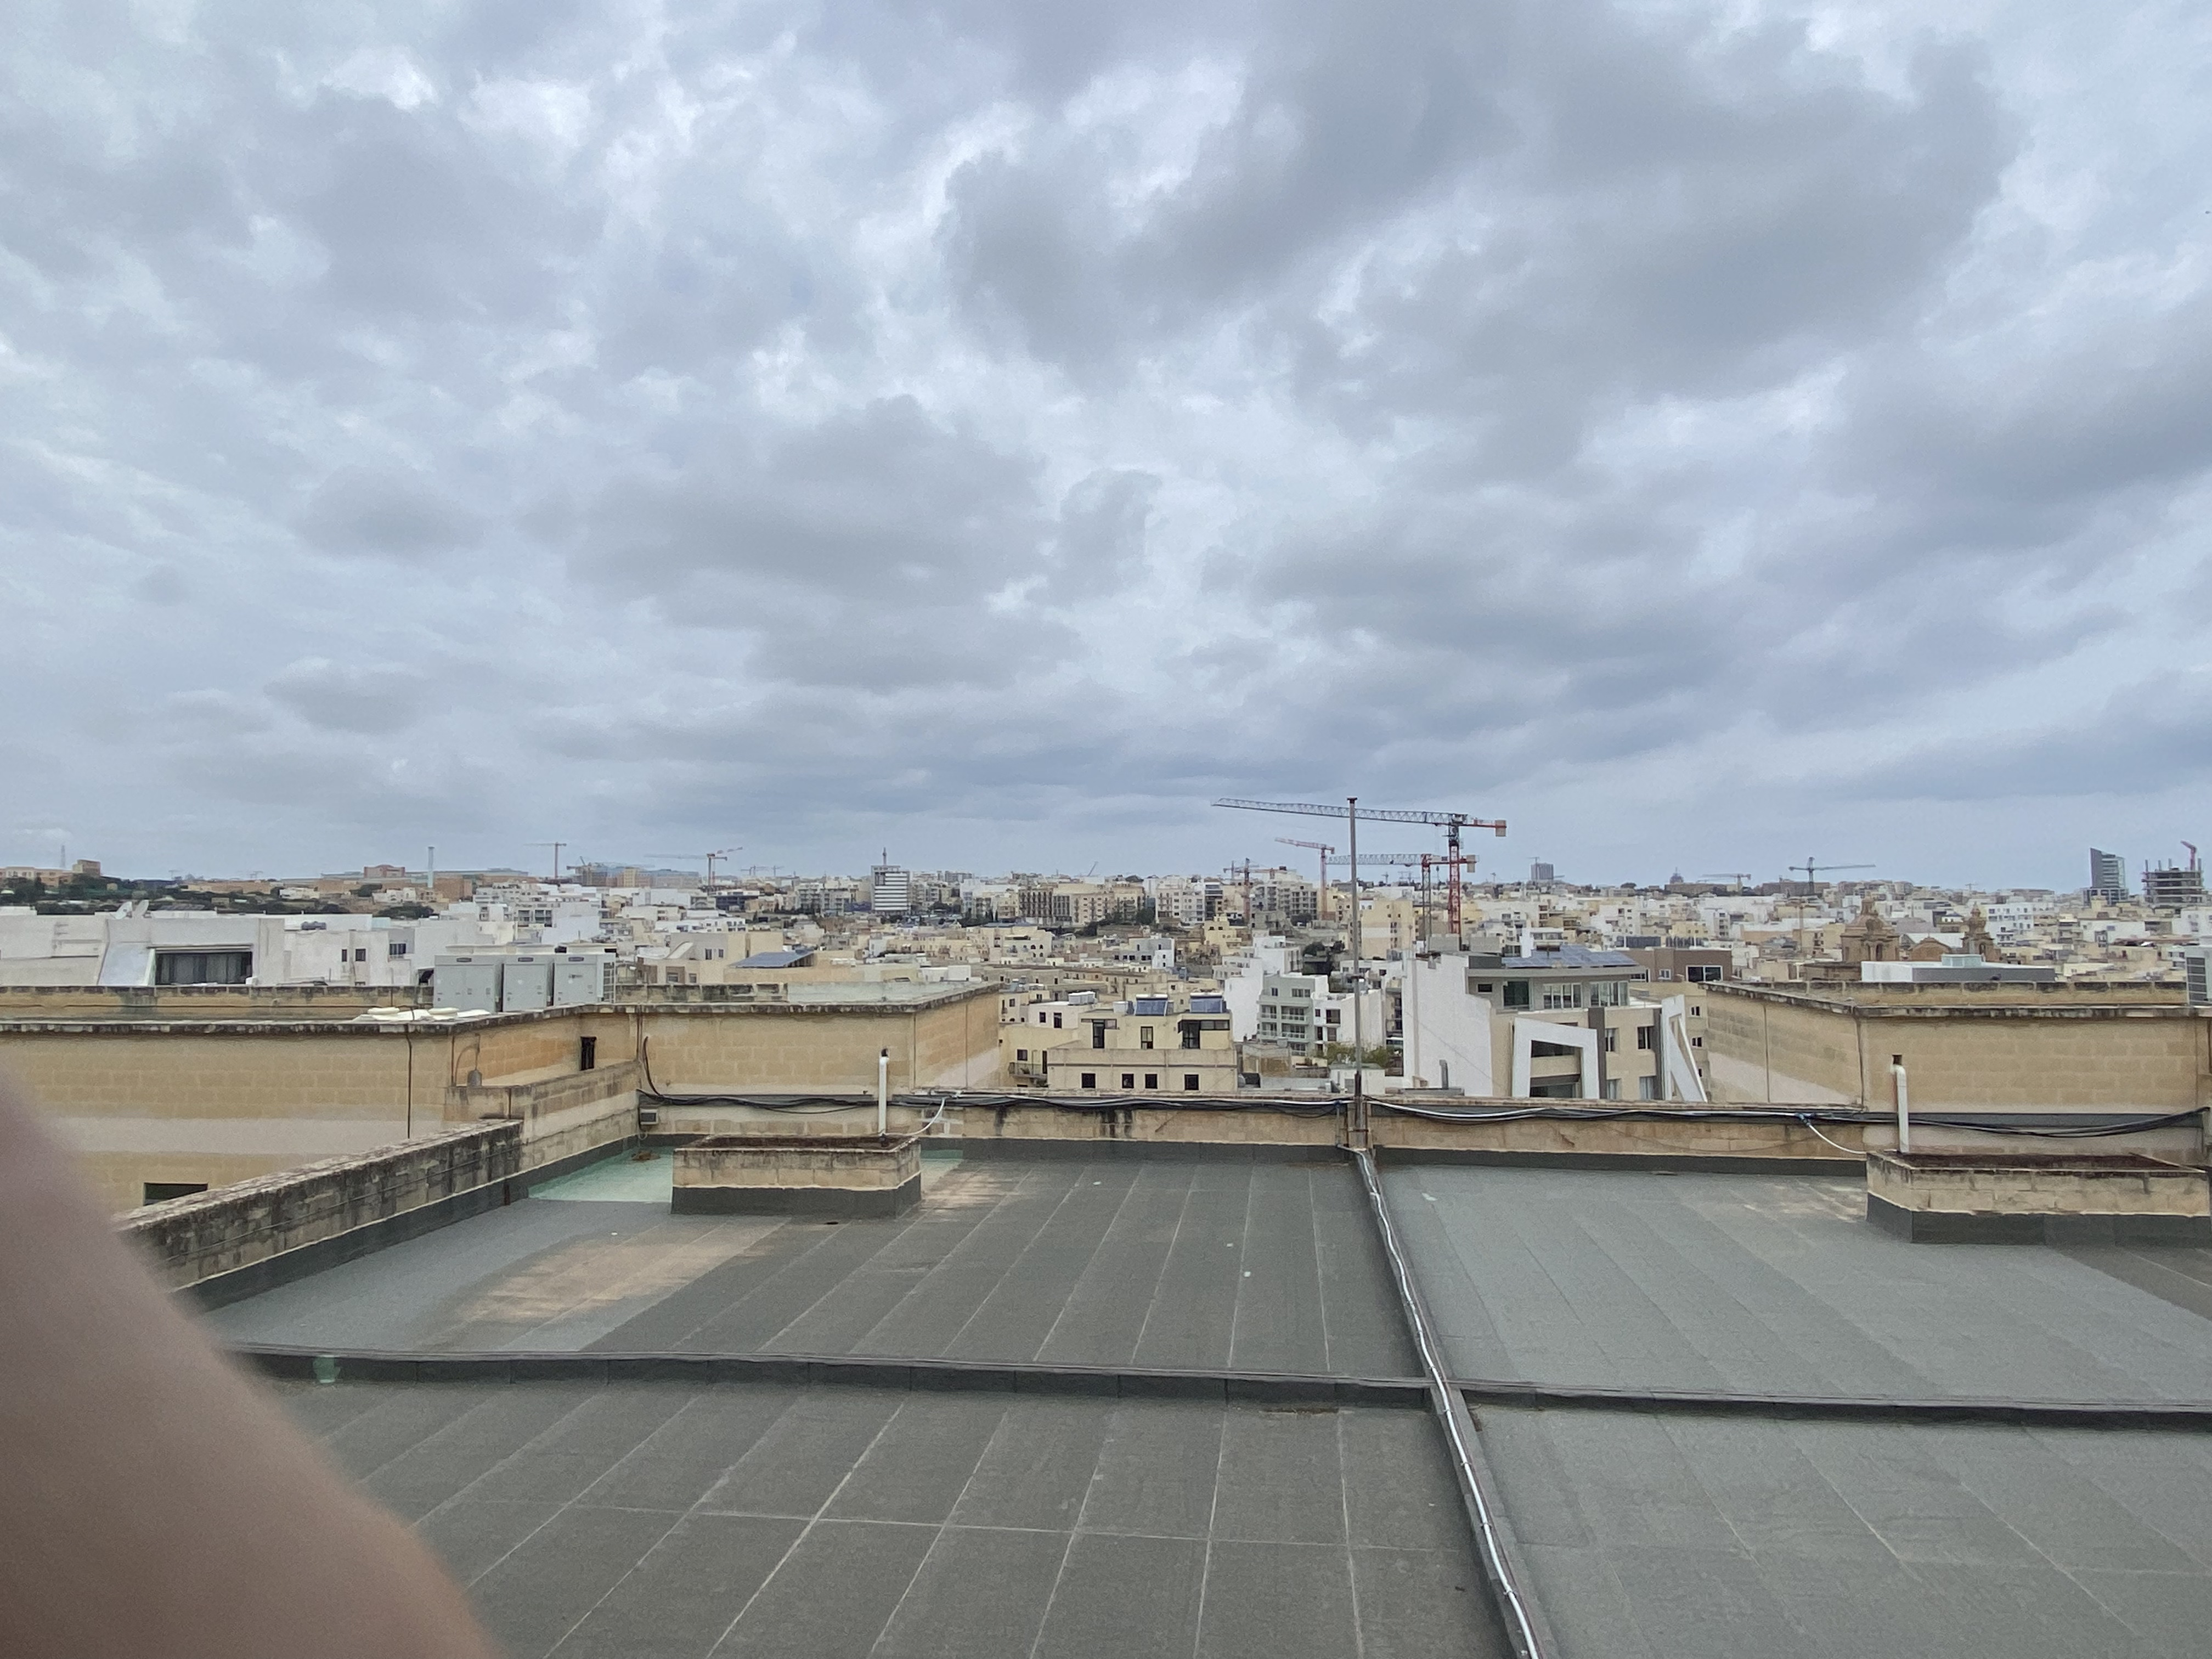Crane: (1197, 786, 1524, 866), (641, 835, 754, 882), (1782, 850, 1879, 884), (524, 835, 615, 870), (1693, 866, 1759, 885)
